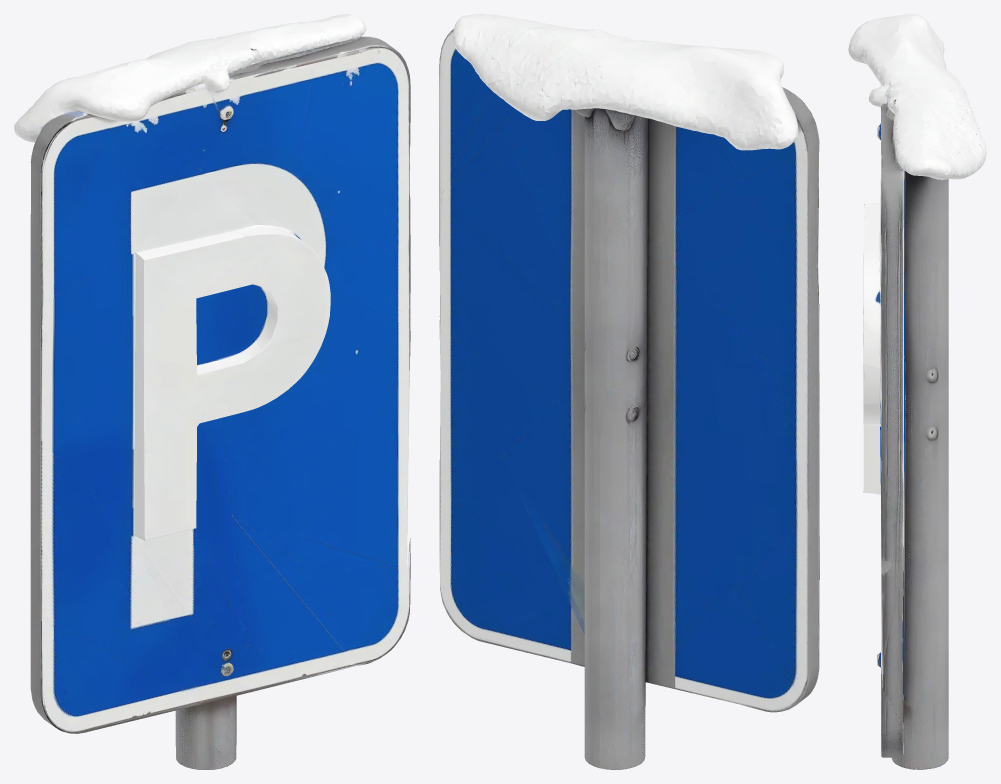
Rendered from parking_sign.glb.
The picture shows the model from 3 angles, left to right: view 1: azimuth 30°, elevation 25°; view 2: azimuth 150°, elevation 25°; view 3: azimuth 270°, elevation 25°; orthographic projection. The views are drawn at different scales.
Size of the model in its own units: 1.02 by 1.9 by 0.3475.
1 material, 1 textured.
